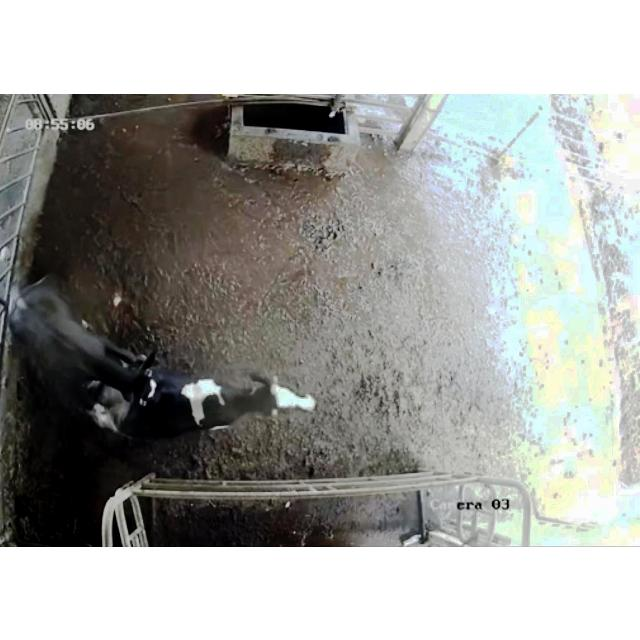ride: (9, 276, 156, 404)
